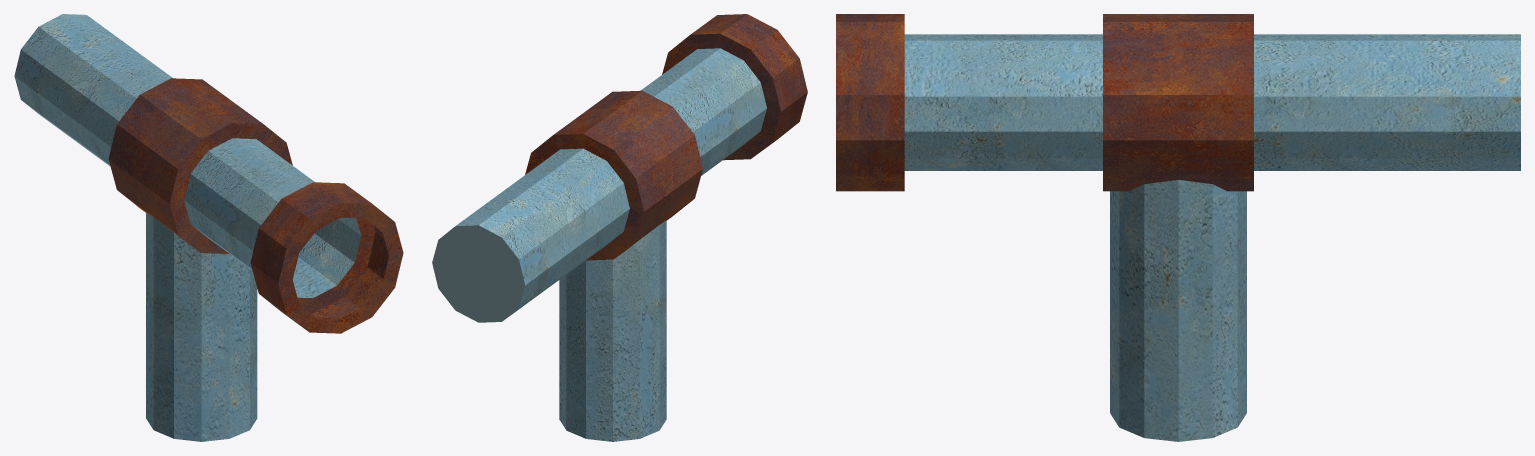
Rendered from pipe02.fbx.
3 renders of one model, left to right at view 1: azimuth 30°, elevation 25°; view 2: azimuth 150°, elevation 25°; view 3: azimuth 270°, elevation 25°, orthographic. The views are drawn at different scales.
Visible parts, largest first — view 1: Cylinder, Cylinder.001; view 2: Cylinder, Cylinder.001; view 3: Cylinder, Cylinder.001.
Boxes of the visible parts, x1,y1,x2,y2 form: Cylinder: (14,14,403,333); Cylinder.001: (146,212,257,441); Cylinder: (432,14,807,322); Cylinder.001: (559,220,666,441); Cylinder: (836,14,1520,191); Cylinder.001: (1110,180,1246,441).
Bounding box in the file's own units: 260 × 630 × 1000.
